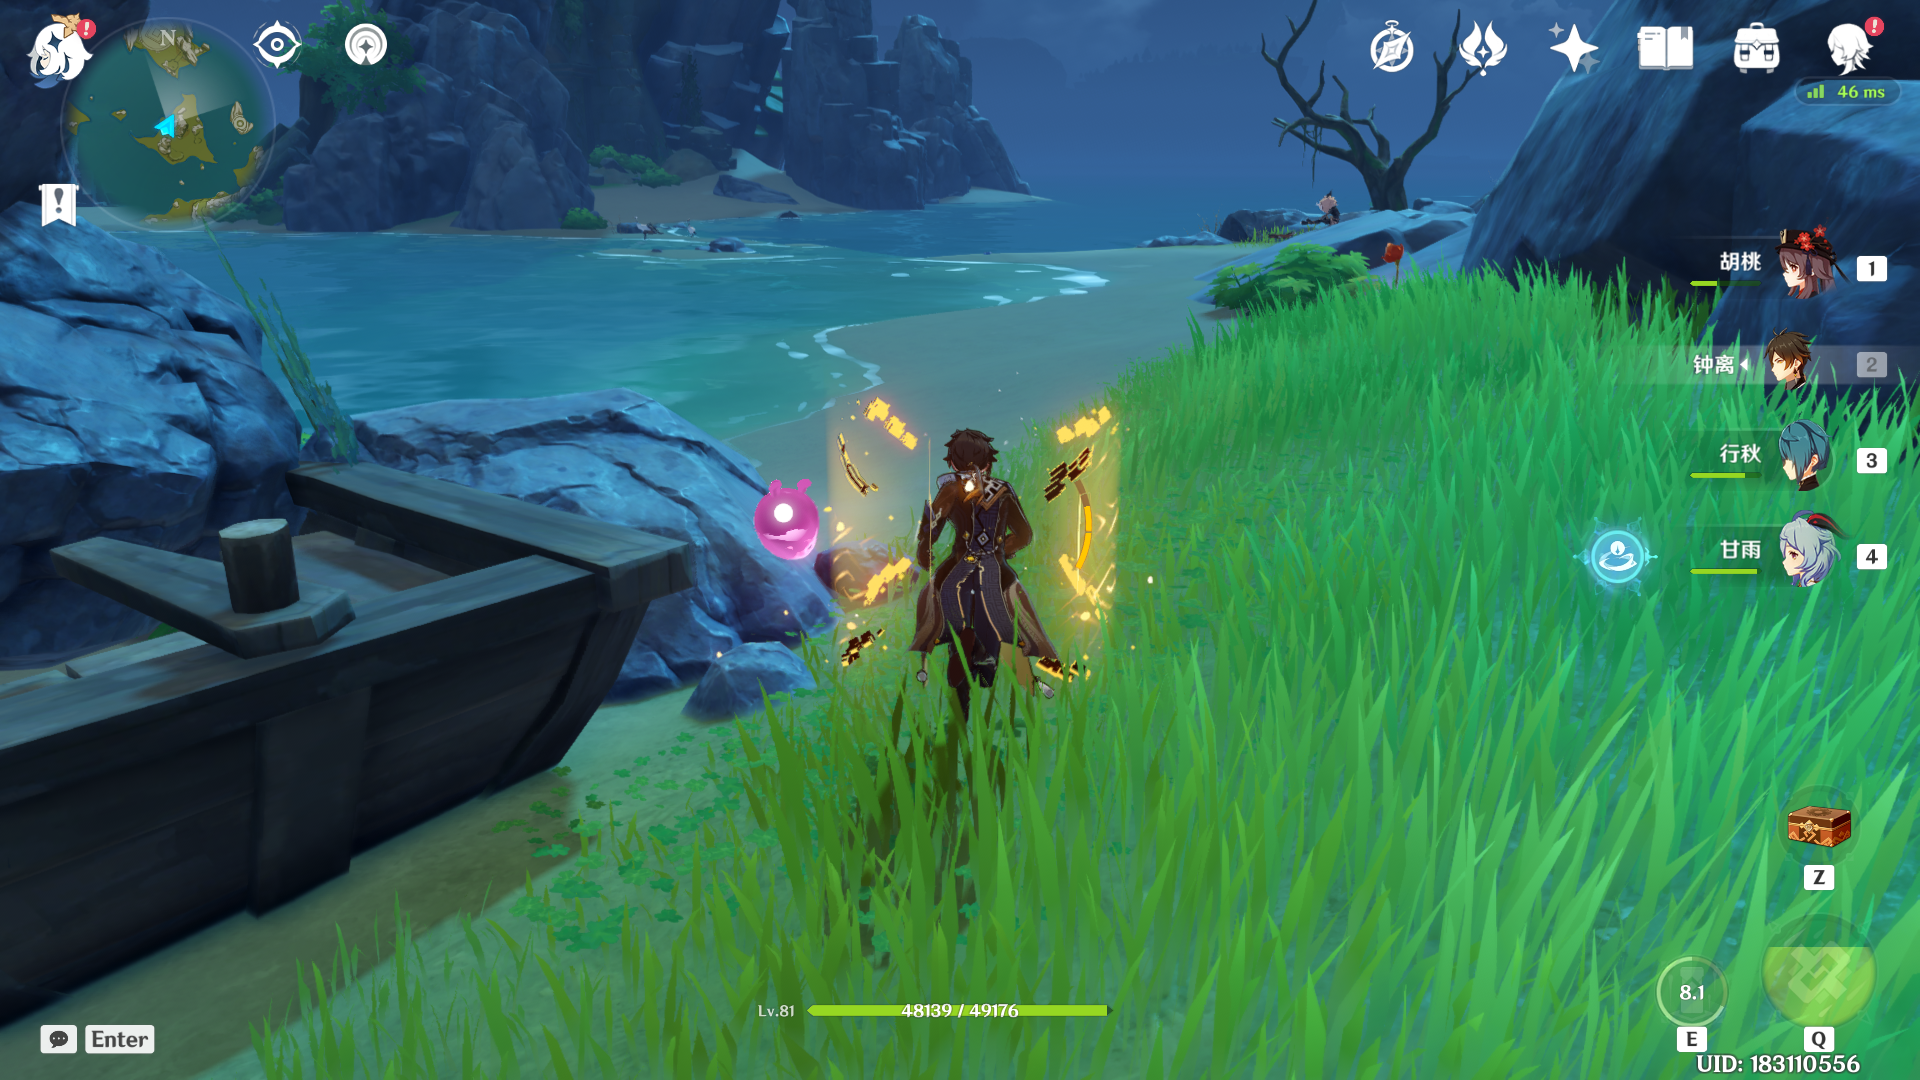character: (845, 398, 1063, 741)
